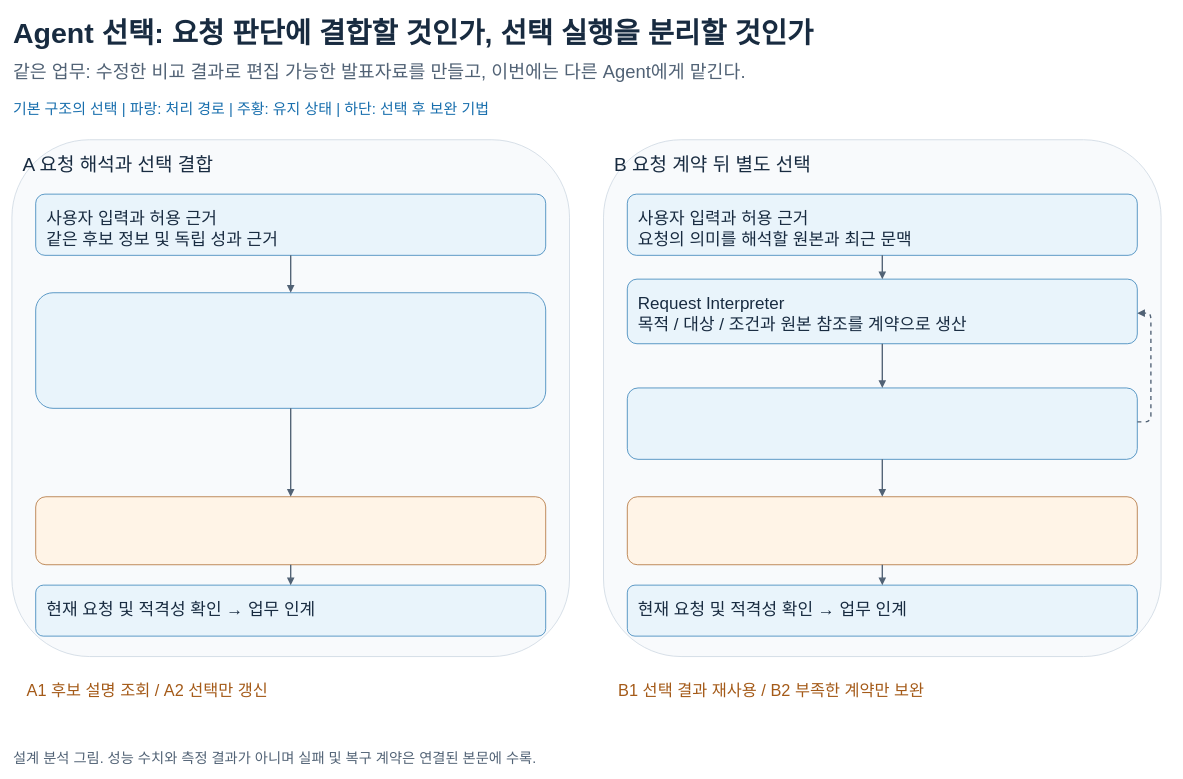
This 1183x779 diagram has some shape labels left out. The shapes that lost their labels are listed below. From the top down, each one's centre as x and y in pixels, then its label:
At (290,350): "Request Interpreter 요청의 목적과 대상을 해석하면서 Agent도 제안 후보 변경 시 결합 판단 재실행".
At (882,423): "선택 전용 판단: 같은 후보 및 성과 근거 공급 계약과 후보를 비교. 후보만 바뀌면 선택만 반복".
At (290,530): "유지 상태 요청 문맥과 후보 판본".
At (882,530): "유지 상태 요청 계약과 별도 선택 문맥 / 후보 판본".
